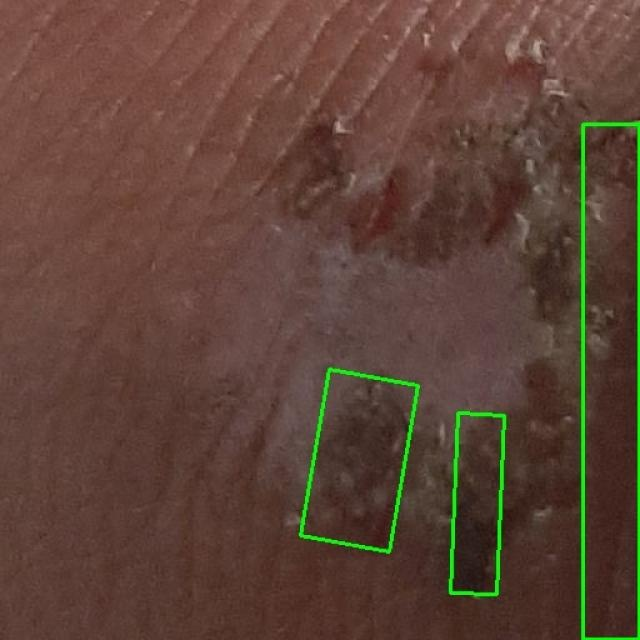Contact Dermatitis: (582, 124, 639, 639), (301, 370, 418, 552), (451, 414, 504, 595)
